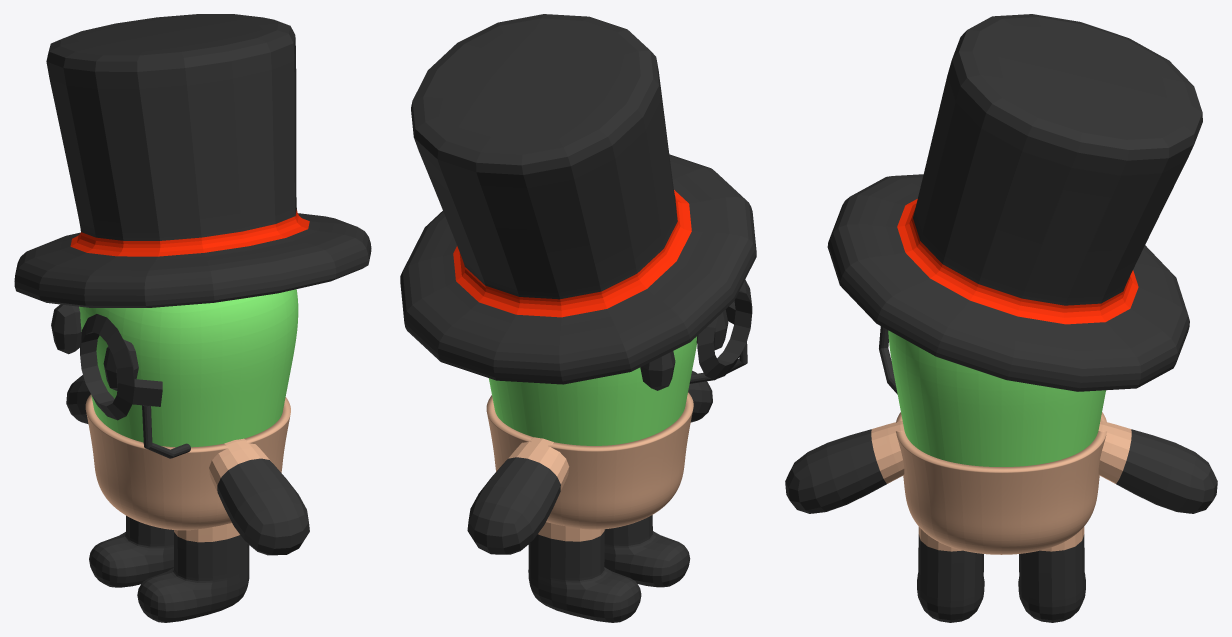
The model's file is personaje-monoculo.fbx.
The picture shows the model from 3 angles, left to right: view 1: azimuth 30°, elevation 25°; view 2: azimuth 150°, elevation 25°; view 3: azimuth 270°, elevation 25°; orthographic projection. The views are drawn at different scales.
Parts seen in each view (by area): view 1: Cube.040, Cube.036, Cube.035, Cube.038, Cube.037, Torus, Cube.039, Plane; view 2: Cube.040, Cube.035, Cube.038, Cube.036, Cube.037, Torus, Cube.039; view 3: Cube.040, Cube.036, Cube.038, Cube.037, Cube.035, Plane.
Boxes of the visible parts, box(x1,y1,x2,y2) form: Cube.040: box(14, 14, 371, 307); Cube.036: box(79, 289, 298, 447); Cube.035: box(89, 515, 249, 622); Cube.038: box(85, 394, 290, 530); Cube.037: box(66, 375, 309, 555); Torus: box(80, 314, 162, 420); Cube.039: box(51, 304, 138, 390); Plane: box(142, 405, 190, 458); Cube.040: box(400, 14, 756, 384); Cube.035: box(528, 515, 690, 622); Cube.038: box(486, 392, 693, 529); Cube.036: box(488, 336, 696, 445); Cube.037: box(467, 370, 712, 554); Torus: box(697, 279, 752, 379); Cube.039: box(640, 310, 728, 390); Cube.040: box(827, 14, 1202, 391); Cube.036: box(888, 330, 1105, 466); Cube.038: box(896, 412, 1106, 554); Cube.037: box(785, 421, 1217, 513); Cube.035: box(917, 526, 1085, 622); Plane: box(879, 326, 897, 394).
Bounding box in the file's own units: 390 × 667 × 452.
